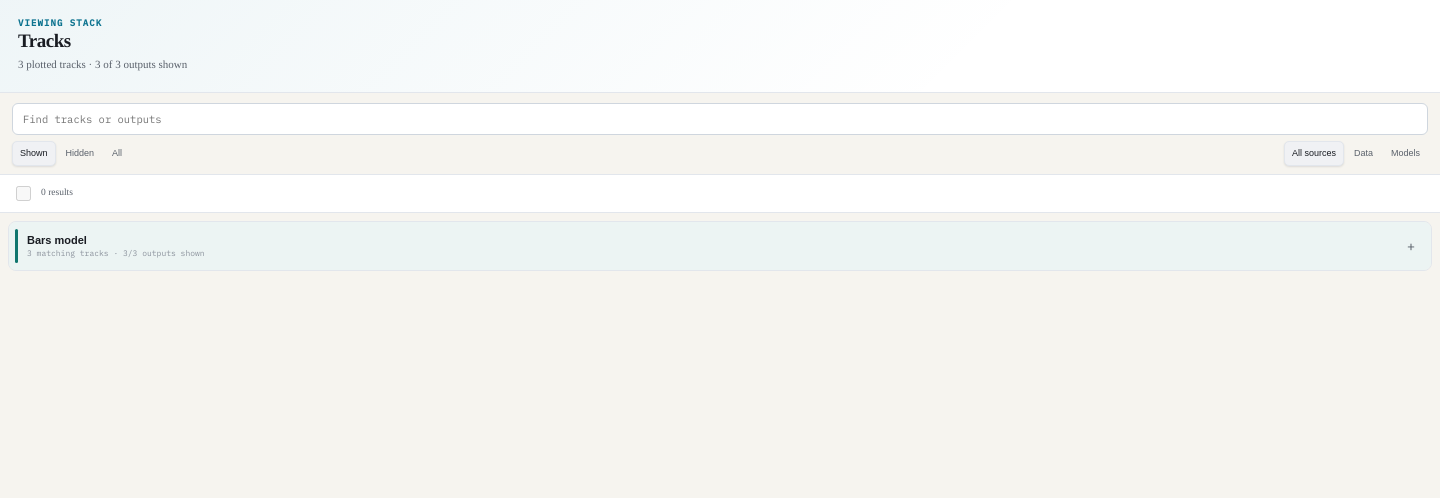
Test: TrackManagerPanel nesting › lists a model collection with a heading per output collection, in the group colour
Click the button "Bars model 3 matching tracks · 3/3 outputs shown +" at point(57, 240), box [9,222,1431,270]
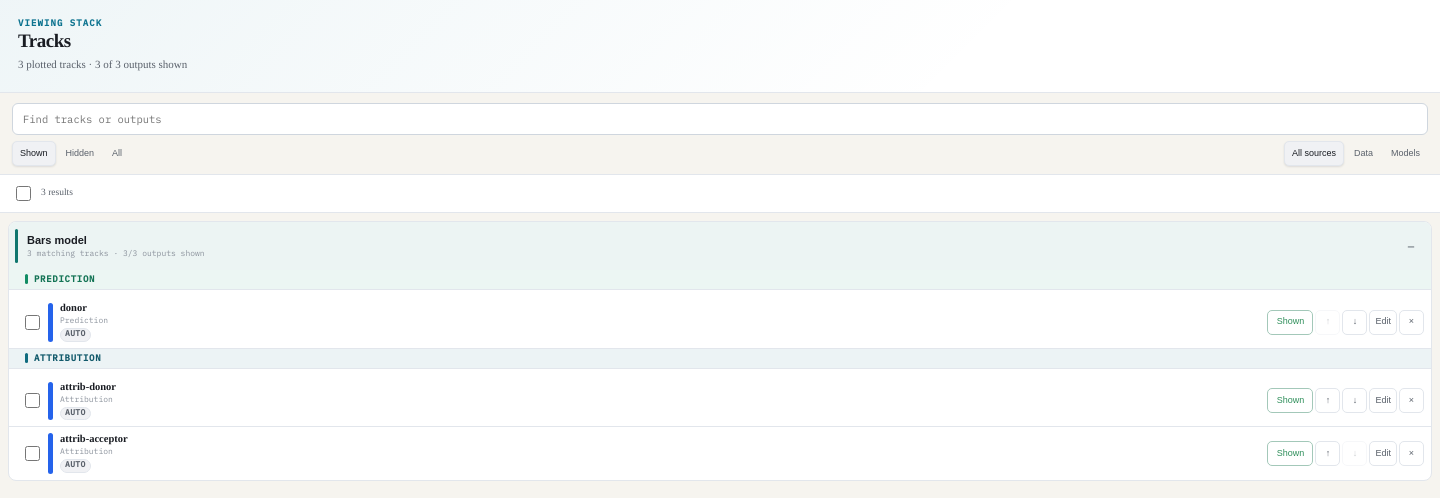
Check: the headings read "Prediction", "Attribution", in this order, box [9,270,1431,290]; [9,348,1431,368]
